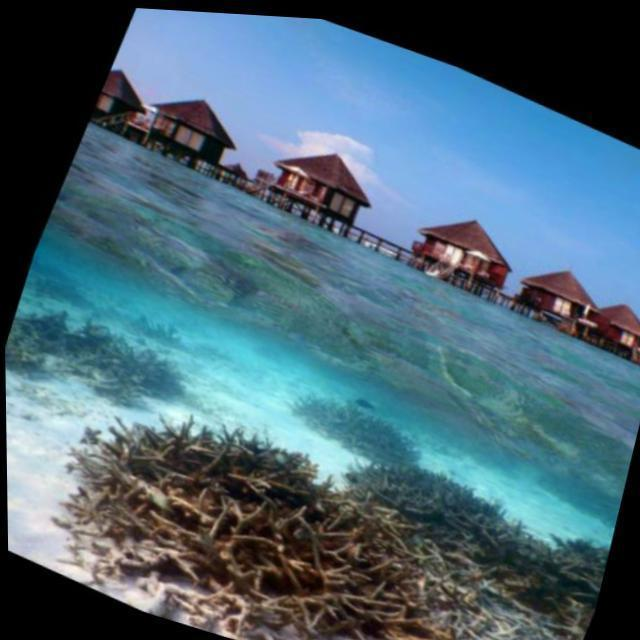Dead Coral: (39, 410, 437, 640), (384, 511, 630, 623)
